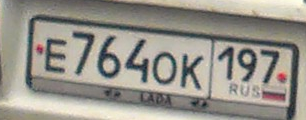character: (124, 37, 150, 86), (97, 34, 122, 82), (71, 27, 94, 75), (152, 48, 177, 87), (43, 38, 69, 75), (180, 52, 205, 90), (258, 47, 280, 87), (237, 46, 258, 85), (218, 45, 235, 84)
